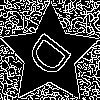D: (25, 30, 81, 86)
